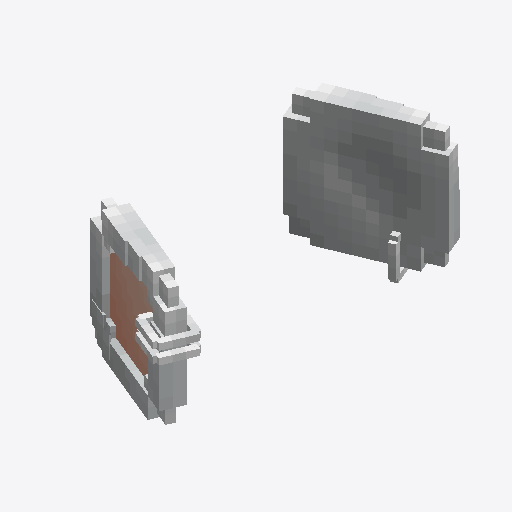
Isometric view (azimuth 45°, elevation 35.3°) of a Minecraft model made of 48 cuboids, textured from the same repository.
Parts seen in each view (by area): element 2, element 11, element 20, element 3, element 5, element 8, element 26, element 23, element 29, element 21, element 4, element 6 (+10 smaller).
Boxes of the visible parts, box(x1,y1,x2,y2) form: element 2: box(310, 123, 420, 246); element 11: box(283, 104, 309, 220); element 20: box(110, 253, 152, 375); element 3: box(310, 221, 426, 271); element 5: box(310, 83, 376, 135); element 8: box(421, 189, 459, 253); element 26: box(148, 358, 186, 410); element 23: box(102, 203, 151, 265); element 29: box(90, 216, 109, 327); element 21: box(102, 338, 158, 419); element 4: box(393, 106, 429, 148); element 6: box(366, 98, 403, 142).
Size of the model in its own units: 14.63 by 6.5 by 6.43.